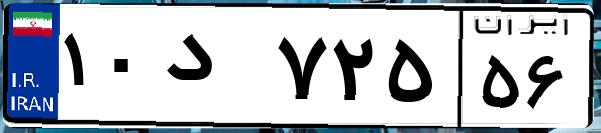0: (110, 28, 158, 98)
1: (57, 26, 110, 100)
2: (330, 28, 385, 110)
5: (385, 28, 445, 110), (475, 38, 525, 113)
6: (525, 38, 570, 115)
7: (270, 28, 330, 110)
د: (158, 20, 270, 120)
